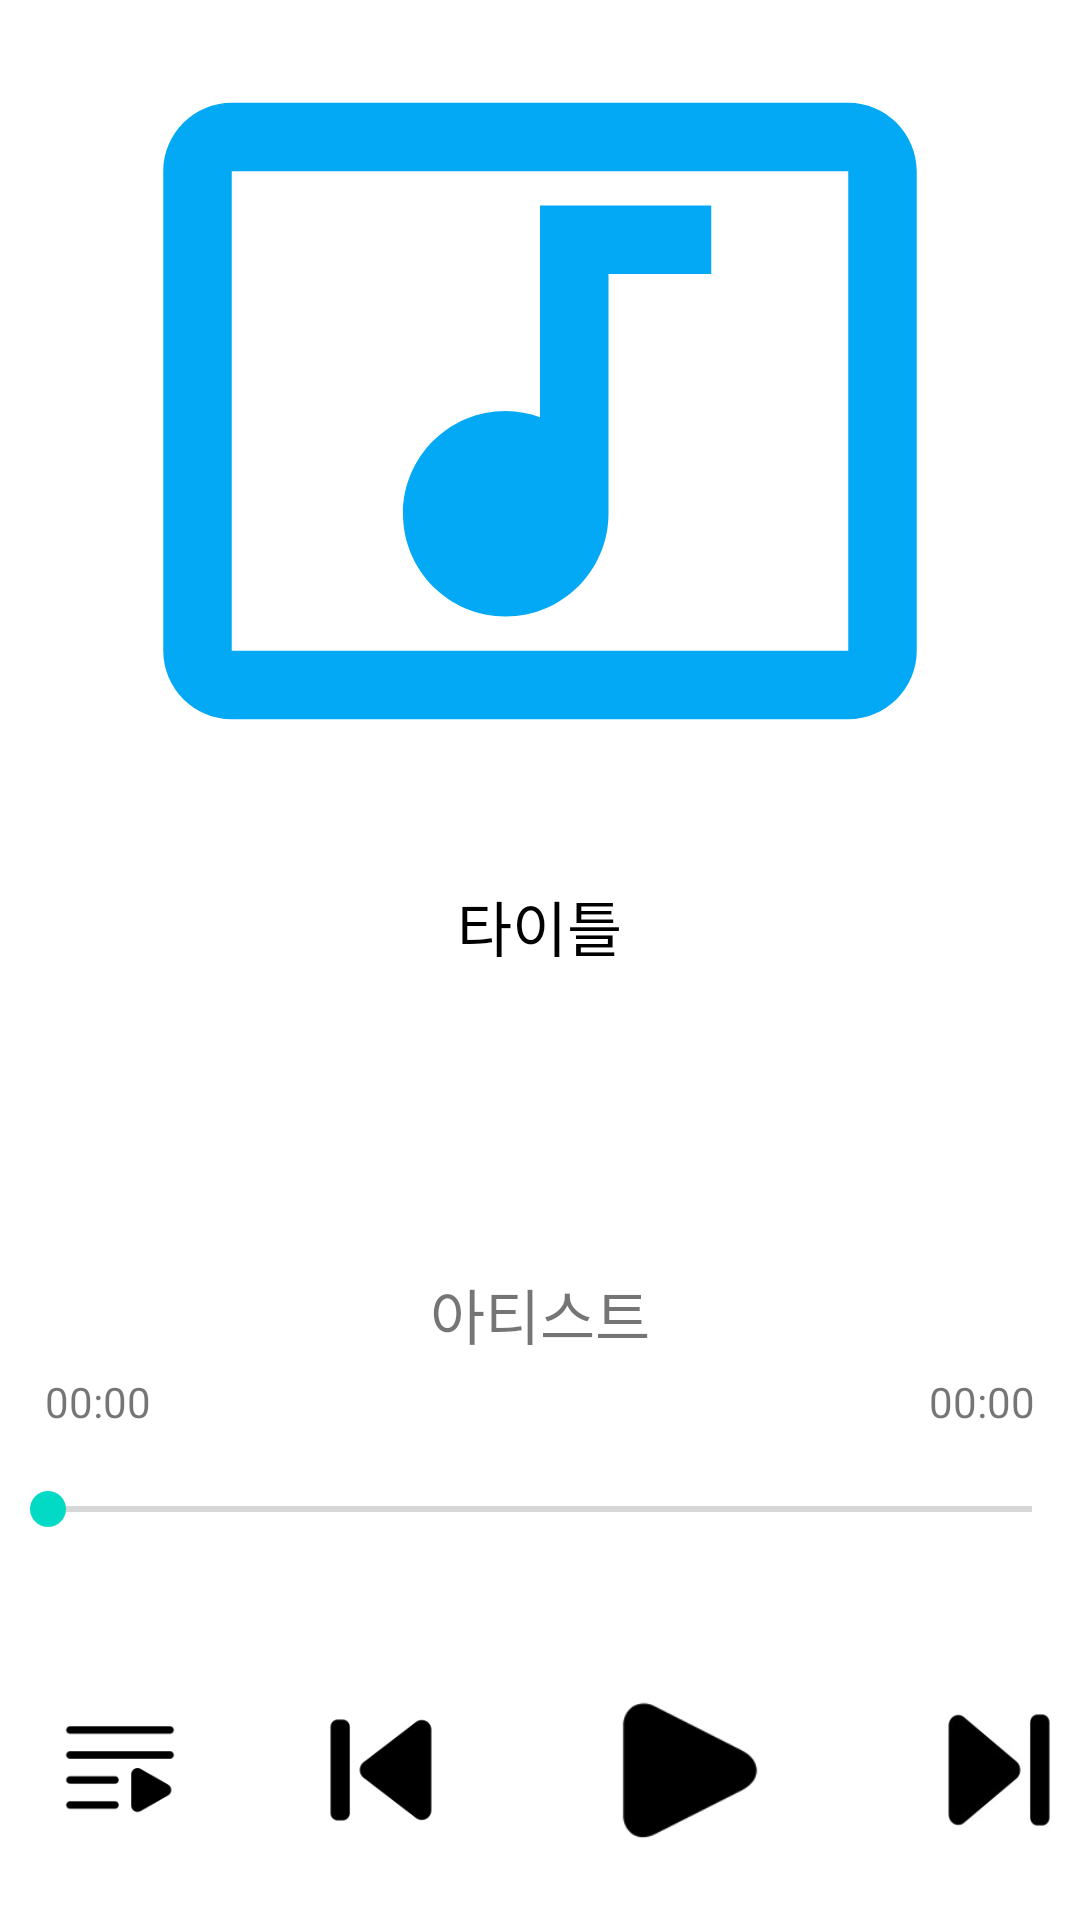

Icons on this 1080x1920 Android screen, each with the point to tap as [x,y]:
next: [999,1770]
play: [690,1770]
playlist: [120,1769]
previous: [381,1770]
